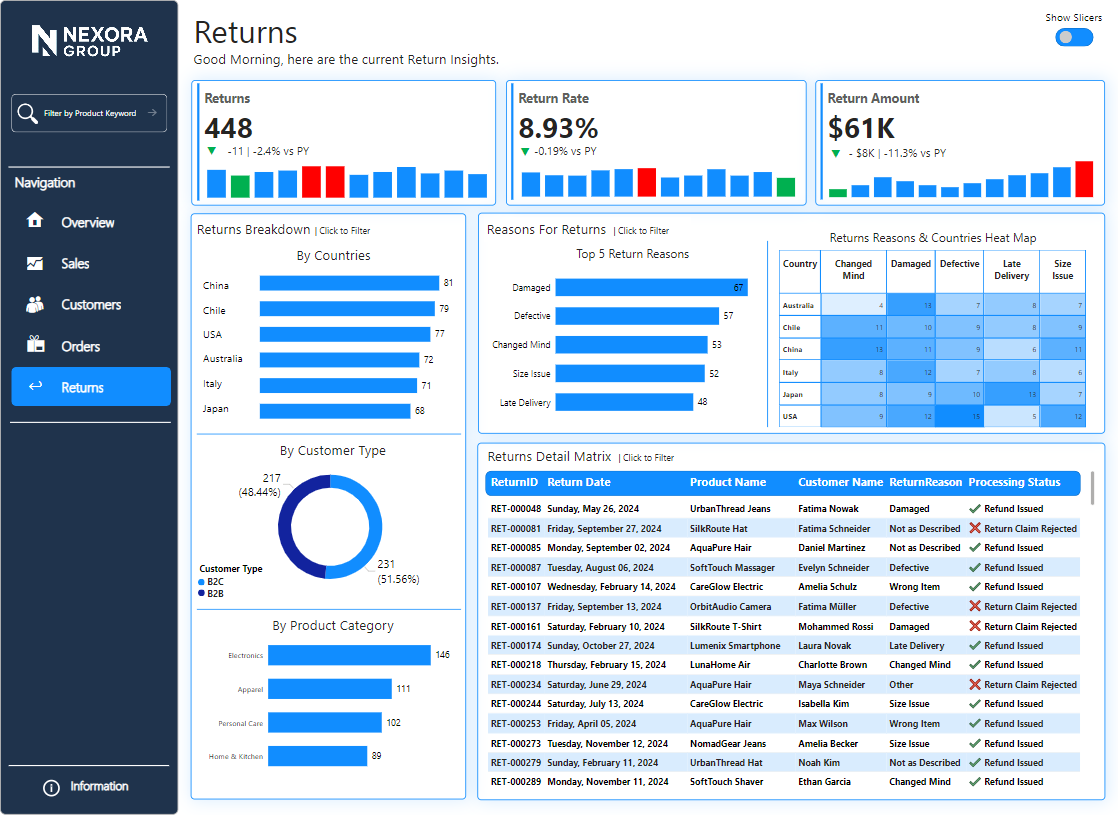

The dashboard page shown, as its layout file describes it:
{"tool":"powerbi","page":{"name":"Returns","canvas":[2240,1420],"ordinal":4},"visuals":[{"type":"group","id":"g1","title":"Group 10","box":[10,10,320,1403],"z":0,"group":"g15"},{"type":"shape","box":[10,10,320,1403],"z":0,"group":"g1"},{"type":"group","id":"g2","title":"Group 2","box":[1887.6,47.6,73.7,39.6],"z":0,"group":"g14"},{"type":"group","id":"g3","title":"Group 1","box":[1890.9,50.9,68.3,33.3],"z":0,"group":"g2"},{"type":"shape","box":[1890.9,50.9,68.3,33.3],"z":0,"group":"g3"},{"type":"shape","box":[342.2,143,546.7,225],"z":0,"group":"g11"},{"type":"shape","box":[20.6,168.5,279.3,68.5],"z":0,"group":"g13"},{"type":"card","fields":{"Values":["fact_returns.Returns_Detail_Measure"]},"box":[359.3,246.9,242.7,48.5],"z":0,"group":"g5"},{"type":"card","fields":{"Values":["fact_returns.Return_Rate_Detail_Measure"]},"box":[898.6,249,230,46.7],"z":0,"group":"g8"},{"type":"textbox","box":[46.7,373.2,51.3,88.2],"z":0,"group":"g7"},{"type":"textbox","box":[867,389,369.8,43.2],"z":0,"group":"g9"},{"type":"group","id":"g4","title":"Group 7","box":[855,793.3,1371.7,620],"z":0},{"type":"shape","box":[855,793.3,1371.7,620],"z":0,"group":"g4"},{"type":"textbox","box":[352,1002.5,125.5,31.8],"z":0,"group":"g12"},{"type":"clusteredBarChart","fields":{"Category":["dim_product.Category"],"Y":["fact_returns.number_of_returns"]},"box":[362,1118.9,456,286],"z":0,"group":"g10"},{"type":"textbox","box":[132.1,1341,162.8,50.2],"z":0,"group":"g6"},{"type":"textbox","box":[1868.1,13.6,113.3,37.8],"z":1000,"group":"g14"},{"type":"image","box":[28,37.7,282.3,95.2],"z":1000,"group":"g1"},{"type":"actionButton","box":[1887.6,47.6,75,40],"z":1000,"group":"g2"},{"type":"shape","box":[1898.1,55.9,22.8,22.8],"z":1000,"group":"g3"},{"type":"cardVisual","fields":{"Data":["fact_returns.number_of_returns"]},"box":[348.4,148.7,338.2,215.3],"z":1000,"group":"g11"},{"type":"image","box":[22.8,176.8,54.3,53.9],"z":1000,"group":"g13"},{"type":"card","fields":{"Values":["fact_returns.Return_Rate_Arrow_Measure"]},"box":[915.6,249,52.4,47.9],"z":1000,"group":"g8"},{"type":"card","fields":{"Values":["fact_returns.Returns_Arrow_Measure"]},"box":[359.2,251.2,40,38.6],"z":1000,"group":"g5"},{"type":"shape","box":[19.8,273.3,287.7,28.8],"z":1000},{"type":"textbox","box":[28,316,162,50],"z":1000,"group":"g15"},{"type":"textbox","box":[348,387,392.7,54],"z":1000,"group":"g9"},{"type":"textbox","box":[46.7,471,51.3,71.1],"z":1000,"group":"g7"},{"type":"textbox","box":[870.7,796.9,607.1,46.3],"z":1000,"group":"g4"},{"type":"shape","box":[354,1037,12.2,12.6],"z":1000,"group":"g12"},{"type":"textbox","box":[452,1098.9,290,54],"z":1000,"group":"g10"},{"type":"actionButton","box":[82,1342.7,39.8,39.8],"z":1000,"group":"g6"},{"type":"actionButton","box":[1882.6,45.3,79.1,41.4],"z":2000,"group":"g14"},{"type":"textSlicer","fields":{"Values":["dim_product.Product.Category"]},"box":[66.3,182.2,232.1,37.9],"z":2000,"group":"g13"},{"type":"group","id":"g5","title":"Group 2","box":[359.2,246.9,242.8,48.5],"z":2000,"group":"g11"},{"type":"pageNavigator","box":[31,367.9,286.3,525.5],"z":2000,"group":"g1"},{"type":"textbox","box":[358,397,392.7,54],"z":2000},{"type":"textbox","box":[46.7,554.1,51.3,88.2],"z":2000,"group":"g7"},{"type":"textbox","box":[361.7,1026.6,46,54.8],"z":2000,"group":"g12"},{"type":"group","id":"g6","title":"Group 11","box":[82,1341,212.9,50.2],"z":2000,"group":"g15"},{"type":"clusteredColumnChart","fields":{"Category":["dim_date.Month Name"],"Y":["fact_returns.number_of_returns"]},"box":[365.5,264,511.7,96.7],"z":3000,"group":"g11"},{"type":"group","id":"g7","title":"Group 9","box":[46.7,373.2,54.1,454],"z":3000,"group":"g1"},{"type":"shape","box":[855,381.7,1371.7,396.7],"z":3000},{"type":"textbox","box":[48.1,637.7,52.7,97.8],"z":3000,"group":"g7"},{"type":"textbox","box":[361.5,1046.6,46,36],"z":3000,"group":"g12"},{"type":"shape","box":[1460.9,143,518.6,225],"z":4000},{"type":"textbox","box":[48.1,733.9,49.9,93.3],"z":4000,"group":"g7"},{"type":"shape","box":[353.8,1055.8,12.5,12.5],"z":4000,"group":"g12"},{"type":"cardVisual","fields":{"Data":["fact_returns.ReturnedOrderAmount"]},"box":[1465.5,148.9,336.3,213.7],"z":5000},{"type":"shape","box":[868.9,843.2,1066.7,45.6],"z":6000},{"type":"shape","box":[905.9,143,538,225],"z":7000},{"type":"tableEx","fields":{"Values":["fact_returns.ReturnID","fact_returns.ReturnDate","dim_product.ProductName","dim_customer.FullName","dim_return_reason.ReturnReason","fact_returns.Processing Status"]},"box":[868.3,838.3,1346.7,566.7],"z":8000},{"type":"textbox","box":[351.4,385.8,470.7,49.6],"z":9000},{"type":"cardVisual","fields":{"Data":["fact_returns.return_rate"]},"box":[911.7,148.8,340,214.7],"z":10000},{"type":"shape","box":[342,382,494,1033],"z":11000},{"type":"group","id":"g8","title":"Group 3","box":[898.6,249,230,47.9],"z":13000},{"type":"clusteredBarChart","fields":{"Y":["fact_returns.number_of_returns"],"Category":["dim_return_reason.ReturnReason"]},"box":[874,470,490,288],"z":14000},{"type":"pivotTable","fields":{"Rows":["dim_region.Country"],"Values":["fact_returns.number_of_returns"]},"box":[354,436,440,330],"z":15000},{"type":"card","fields":{"Values":["fact_returns.ReturnedOrderAmount_Detail"]},"box":[1478,251.4,258.9,50.3],"z":16000},{"type":"clusteredBarChart","fields":{"Category":["dim_region.Country"],"Y":["fact_returns.number_of_returns"]},"box":[461.4,481.7,360,276],"z":17000},{"type":"card","fields":{"Values":["fact_returns.ReturnedOrderAmount_Arrow"]},"box":[1468.9,251.8,57.9,50],"z":18000},{"type":"pivotTable","fields":{"Columns":["dim_return_reason.ReturnReason"],"Rows":["dim_region.Country"],"Values":["fact_returns.number_of_returns"]},"box":[1391.7,450,810,318.3],"z":19000},{"type":"donutChart","fields":{"Y":["fact_returns.number_of_returns"],"Category":["dim_channel.ChannelName (3)"]},"box":[366,822,452,244],"z":20000},{"type":"textbox","box":[910.2,435.5,446.7,44.8],"z":21000},{"type":"textbox","box":[1481.2,413.7,410.1,43.7],"z":22000},{"type":"group","id":"g9","title":"Group 8","box":[348,387,888.8,54],"z":23000},{"type":"textbox","box":[476,436,242,54],"z":24000},{"type":"textbox","box":[451.7,784.6,290,53.3],"z":25000},{"type":"shape","box":[352,760,474,36],"z":26000},{"type":"shape","box":[352,1074,474,36],"z":27000},{"type":"group","id":"g10","title":"Group 6","box":[362,1098.9,456,306],"z":28000},{"type":"shape","box":[1357.7,431.4,34.3,334.3],"z":29000},{"type":"clusteredColumnChart","fields":{"Category":["dim_date.Month Name"],"Y":["Sum(fact_return_amount.Sales Returns Amount)"]},"box":[1480.3,275,483.3,85],"z":31000},{"type":"group","id":"g11","title":"Group 11","box":[342.2,143,546.7,225],"z":32000},{"type":"clusteredColumnChart","fields":{"Category":["dim_date.Month Name"],"Y":["fact_returns.return_rate"]},"box":[930.3,268.3,500,90],"z":33000},{"type":"textbox","box":[342,12,744,126],"z":34000},{"type":"group","id":"g12","title":"Group 8","box":[352,1002.5,125.5,80.1],"z":35000},{"type":"shape","box":[16,284,288,30],"z":36000},{"type":"group","id":"g13","title":"Group 14","box":[20.6,168.5,279.3,68.5],"z":37000},{"type":"group","id":"g14","title":"Group 13","box":[1868.1,13.6,113.3,73.6],"z":41000},{"type":"group","id":"g15","title":"Group 12","box":[10,10,320,1403],"z":44000}]}

Visuals, with their boxes on the page's 2240x1420 design canvas (x1, y1, x2, y2). These are canvas units, not pixel positions in the 1119x815 screenshot, which may show the page scaled, cropped or inside an application window:
"Group 10" group: (left=10, top=10, right=330, bottom=1413)
shape: (left=10, top=10, right=330, bottom=1413)
"Group 2" group: (left=1888, top=48, right=1961, bottom=87)
"Group 1" group: (left=1891, top=51, right=1959, bottom=84)
shape: (left=1891, top=51, right=1959, bottom=84)
shape: (left=342, top=143, right=889, bottom=368)
shape: (left=21, top=168, right=300, bottom=237)
card - fact_returns.Returns_Detail_Measure: (left=359, top=247, right=602, bottom=295)
card - fact_returns.Return_Rate_Detail_Measure: (left=899, top=249, right=1129, bottom=296)
textbox: (left=47, top=373, right=98, bottom=461)
textbox: (left=867, top=389, right=1237, bottom=432)
"Group 7" group: (left=855, top=793, right=2227, bottom=1413)
shape: (left=855, top=793, right=2227, bottom=1413)
textbox: (left=352, top=1002, right=478, bottom=1034)
clusteredBarChart - dim_product.Category x fact_returns.number_of_returns: (left=362, top=1119, right=818, bottom=1405)
textbox: (left=132, top=1341, right=295, bottom=1391)
textbox: (left=1868, top=14, right=1981, bottom=51)
image: (left=28, top=38, right=310, bottom=133)
actionButton: (left=1888, top=48, right=1963, bottom=88)
shape: (left=1898, top=56, right=1921, bottom=79)
cardVisual - fact_returns.number_of_returns: (left=348, top=149, right=687, bottom=364)
image: (left=23, top=177, right=77, bottom=231)
card - fact_returns.Return_Rate_Arrow_Measure: (left=916, top=249, right=968, bottom=297)
card - fact_returns.Returns_Arrow_Measure: (left=359, top=251, right=399, bottom=290)
shape: (left=20, top=273, right=308, bottom=302)
textbox: (left=28, top=316, right=190, bottom=366)
textbox: (left=348, top=387, right=741, bottom=441)
textbox: (left=47, top=471, right=98, bottom=542)
textbox: (left=871, top=797, right=1478, bottom=843)
shape: (left=354, top=1037, right=366, bottom=1050)
textbox: (left=452, top=1099, right=742, bottom=1153)
actionButton: (left=82, top=1343, right=122, bottom=1382)
actionButton: (left=1883, top=45, right=1962, bottom=87)
textSlicer - dim_product.Product.Category: (left=66, top=182, right=298, bottom=220)
"Group 2" group: (left=359, top=247, right=602, bottom=295)
pageNavigator: (left=31, top=368, right=317, bottom=893)
textbox: (left=358, top=397, right=751, bottom=451)
textbox: (left=47, top=554, right=98, bottom=642)
textbox: (left=362, top=1027, right=408, bottom=1081)
"Group 11" group: (left=82, top=1341, right=295, bottom=1391)
clusteredColumnChart - dim_date.Month Name x fact_returns.number_of_returns: (left=366, top=264, right=877, bottom=361)
"Group 9" group: (left=47, top=373, right=101, bottom=827)
shape: (left=855, top=382, right=2227, bottom=778)
textbox: (left=48, top=638, right=101, bottom=736)
textbox: (left=362, top=1047, right=408, bottom=1083)
shape: (left=1461, top=143, right=1980, bottom=368)
textbox: (left=48, top=734, right=98, bottom=827)
shape: (left=354, top=1056, right=366, bottom=1068)
cardVisual - fact_returns.ReturnedOrderAmount: (left=1466, top=149, right=1802, bottom=363)
shape: (left=869, top=843, right=1936, bottom=889)
shape: (left=906, top=143, right=1444, bottom=368)
tableEx - fact_returns.ReturnID x fact_returns.ReturnDate: (left=868, top=838, right=2215, bottom=1405)
textbox: (left=351, top=386, right=822, bottom=435)
cardVisual - fact_returns.return_rate: (left=912, top=149, right=1252, bottom=364)
shape: (left=342, top=382, right=836, bottom=1415)
"Group 3" group: (left=899, top=249, right=1129, bottom=297)
clusteredBarChart - fact_returns.number_of_returns x dim_return_reason.ReturnReason: (left=874, top=470, right=1364, bottom=758)
pivotTable - dim_region.Country x fact_returns.number_of_returns: (left=354, top=436, right=794, bottom=766)
card - fact_returns.ReturnedOrderAmount_Detail: (left=1478, top=251, right=1737, bottom=302)
clusteredBarChart - dim_region.Country x fact_returns.number_of_returns: (left=461, top=482, right=821, bottom=758)
card - fact_returns.ReturnedOrderAmount_Arrow: (left=1469, top=252, right=1527, bottom=302)
pivotTable - dim_return_reason.ReturnReason x dim_region.Country: (left=1392, top=450, right=2202, bottom=768)
donutChart - fact_returns.number_of_returns x dim_channel.ChannelName (3): (left=366, top=822, right=818, bottom=1066)
textbox: (left=910, top=436, right=1357, bottom=480)
textbox: (left=1481, top=414, right=1891, bottom=457)
"Group 8" group: (left=348, top=387, right=1237, bottom=441)
textbox: (left=476, top=436, right=718, bottom=490)
textbox: (left=452, top=785, right=742, bottom=838)
shape: (left=352, top=760, right=826, bottom=796)
shape: (left=352, top=1074, right=826, bottom=1110)
"Group 6" group: (left=362, top=1099, right=818, bottom=1405)
shape: (left=1358, top=431, right=1392, bottom=766)
clusteredColumnChart - dim_date.Month Name x Sum(fact_return_amount.Sales Returns Amount): (left=1480, top=275, right=1964, bottom=360)
"Group 11" group: (left=342, top=143, right=889, bottom=368)
clusteredColumnChart - dim_date.Month Name x fact_returns.return_rate: (left=930, top=268, right=1430, bottom=358)
textbox: (left=342, top=12, right=1086, bottom=138)
"Group 8" group: (left=352, top=1002, right=478, bottom=1083)
shape: (left=16, top=284, right=304, bottom=314)
"Group 14" group: (left=21, top=168, right=300, bottom=237)
"Group 13" group: (left=1868, top=14, right=1981, bottom=87)
"Group 12" group: (left=10, top=10, right=330, bottom=1413)
